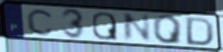3: (60, 7, 86, 42)
C: (25, 8, 56, 37)
D: (184, 16, 216, 47)
N: (122, 12, 153, 43)
Q: (151, 15, 185, 46), (91, 11, 120, 41)
